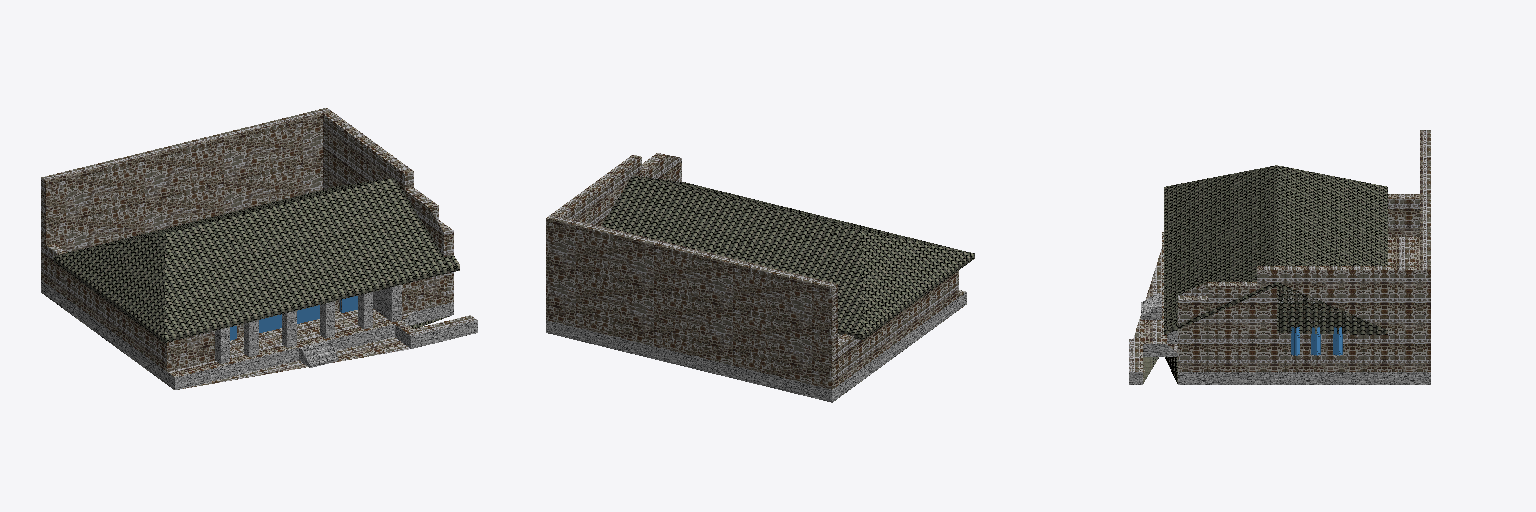
3 renders of one model, left to right at view 1: azimuth 30°, elevation 25°; view 2: azimuth 150°, elevation 25°; view 3: azimuth 270°, elevation 25°, orthographic.
Parts seen in each view (by area): view 1: Mesh993 Group3 Group1 Model, Mesh1 Group2 Group1 Model; view 2: Mesh993 Group3 Group1 Model, Mesh1 Group2 Group1 Model; view 3: Mesh993 Group3 Group1 Model, Mesh1 Group2 Group1 Model.
Part boxes in pixels (x1,y1,x2,y2): Mesh993 Group3 Group1 Model: (41, 108, 477, 389); Mesh1 Group2 Group1 Model: (53, 178, 459, 342); Mesh993 Group3 Group1 Model: (546, 153, 966, 402); Mesh1 Group2 Group1 Model: (601, 175, 974, 339); Mesh993 Group3 Group1 Model: (1129, 130, 1430, 384); Mesh1 Group2 Group1 Model: (1164, 165, 1387, 334).
Size of the model in its own units: 13227 by 4859 by 11589.
7 materials, 4 textured.